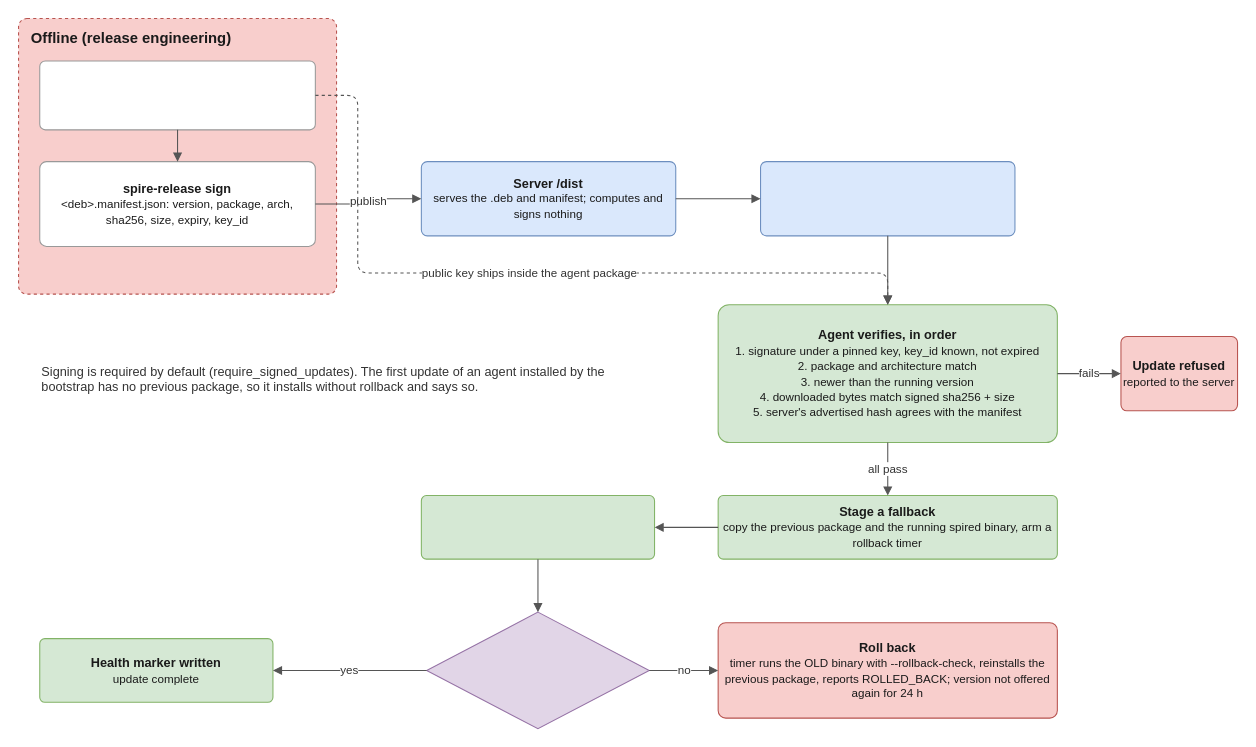
Some shapes in this 1256 by 747 pixel diagram are drawn without their labels. The centre of each missing label's shape, as x and y in pixels:
"Check-in update directive target version + manifest URL" belongs at [887,198].
"Healthy check-in within 10 min?" belongs at [537,670].
"Install the new package apt / dpkg" belongs at [537,526].
"spire-release keygen Ed25519 key pair; private key never on the server" belongs at [177,95].
